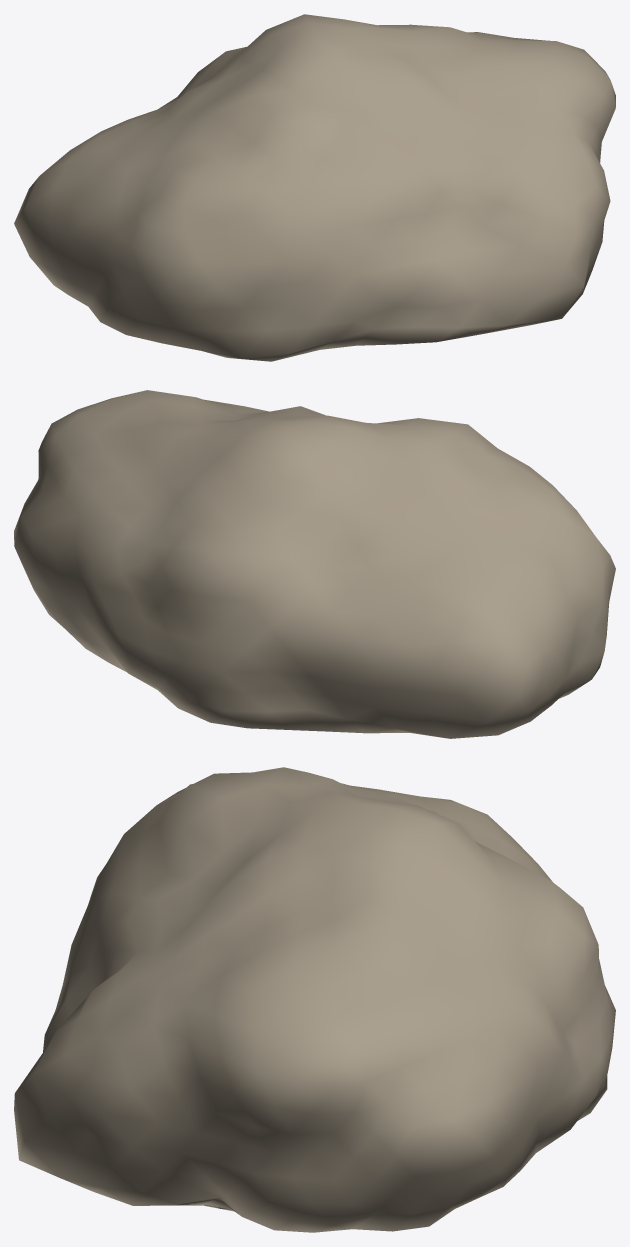
The model's file is rock_b.glb.
3 views of the same model, one above another, from view 1: azimuth 30°, elevation 25°; view 2: azimuth 150°, elevation 25°; view 3: azimuth 270°, elevation 25° (orthographic). The views are drawn at different scales.
Visible parts, largest first — view 1: rock_b; view 2: rock_b; view 3: rock_b.
Part boxes in pixels (x1=…): rock_b: x1=14, y1=14, x2=615, y2=361; rock_b: x1=14, y1=390, x2=615, y2=738; rock_b: x1=14, y1=767, x2=615, y2=1232.
Size of the model in its own units: 3.96 by 1.6 by 3.05.
